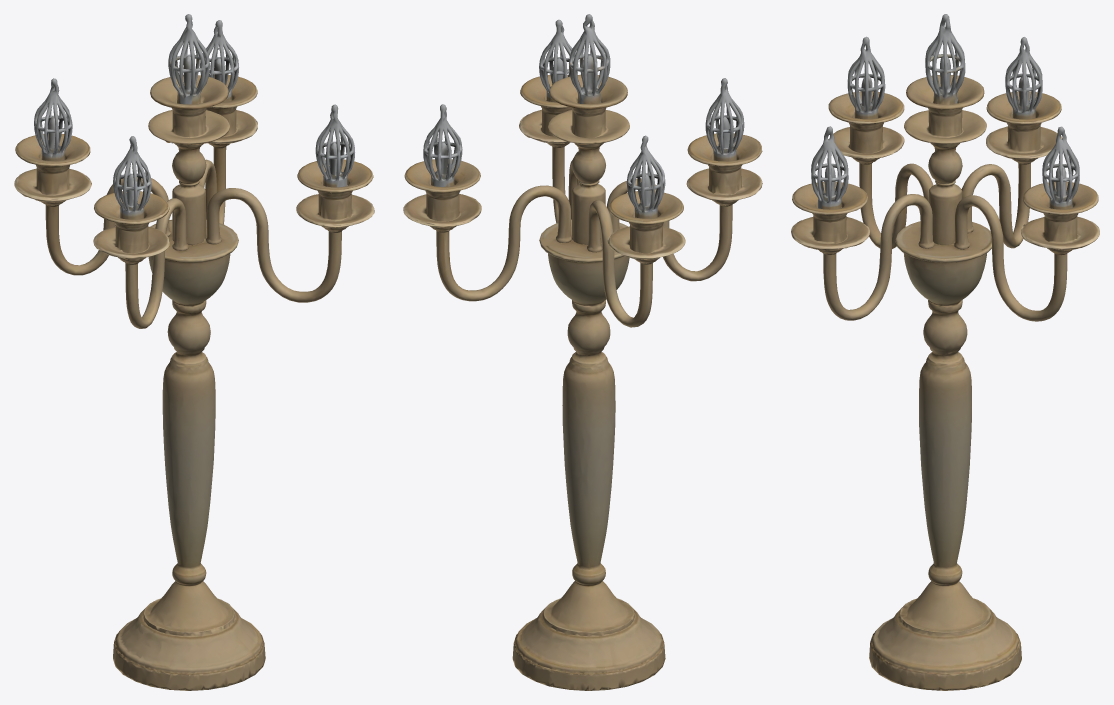
File: decor-candelabrum-golden.glb
3 views of the same model, side by side, from view 1: azimuth 30°, elevation 25°; view 2: azimuth 150°, elevation 25°; view 3: azimuth 270°, elevation 25° (orthographic).
Parts seen in each view (by area): view 1: tripo_node_f29e742a-5a69-4601-b500-f1bad73851a7; view 2: tripo_node_f29e742a-5a69-4601-b500-f1bad73851a7; view 3: tripo_node_f29e742a-5a69-4601-b500-f1bad73851a7.
Boxes of the visible parts, x1,y1,x2,y2 form: tripo_node_f29e742a-5a69-4601-b500-f1bad73851a7: (14, 14, 374, 690); tripo_node_f29e742a-5a69-4601-b500-f1bad73851a7: (403, 14, 762, 690); tripo_node_f29e742a-5a69-4601-b500-f1bad73851a7: (791, 14, 1099, 690).
Bounding box in the file's own units: 0.226 × 0.55 × 0.2389.
2 materials, 1 textured.
